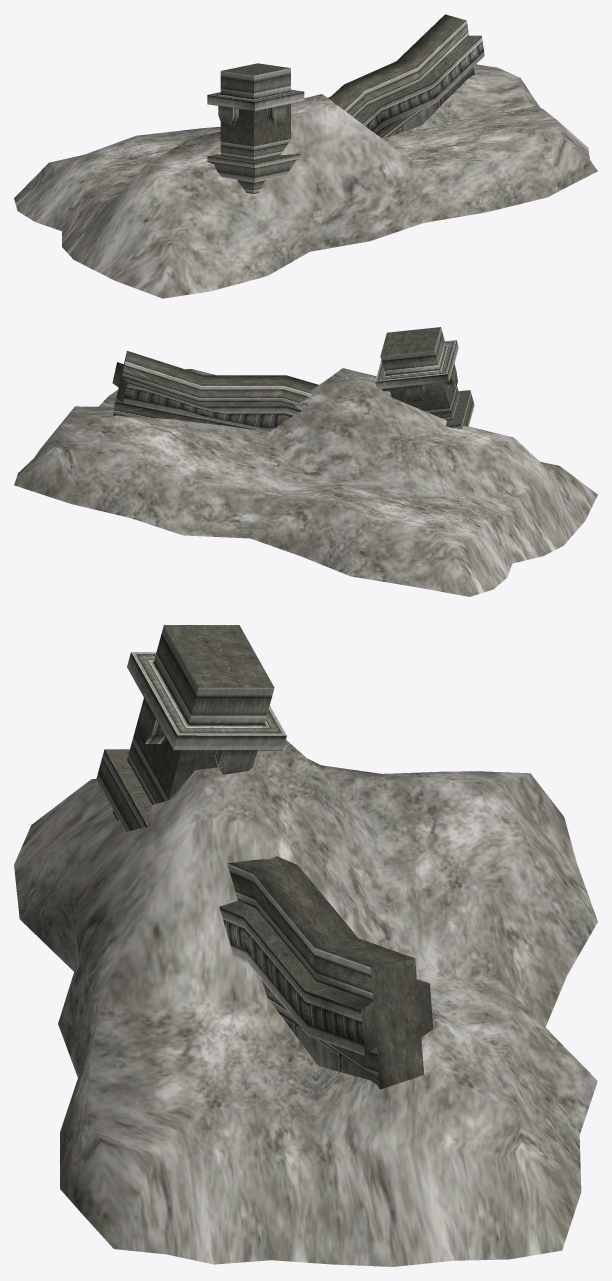
The model's file is DEBREE_LONG_FULL.fbx.
3 renders of one model, top to bottom at view 1: azimuth 30°, elevation 25°; view 2: azimuth 150°, elevation 25°; view 3: azimuth 270°, elevation 25°, orthographic. The views are drawn at different scales.
Parts seen in each view (by area): view 1: DEBREE_LONG_FULL; view 2: DEBREE_LONG_FULL; view 3: DEBREE_LONG_FULL.
Part boxes in pixels (box(x1,y1,x2,y2)): DEBREE_LONG_FULL: box(14, 14, 597, 298); DEBREE_LONG_FULL: box(14, 327, 597, 596); DEBREE_LONG_FULL: box(14, 625, 597, 1266).
Size of the model in its own units: 94570 by 34718 by 49974.
Materials: 5 (5 with a texture image).
